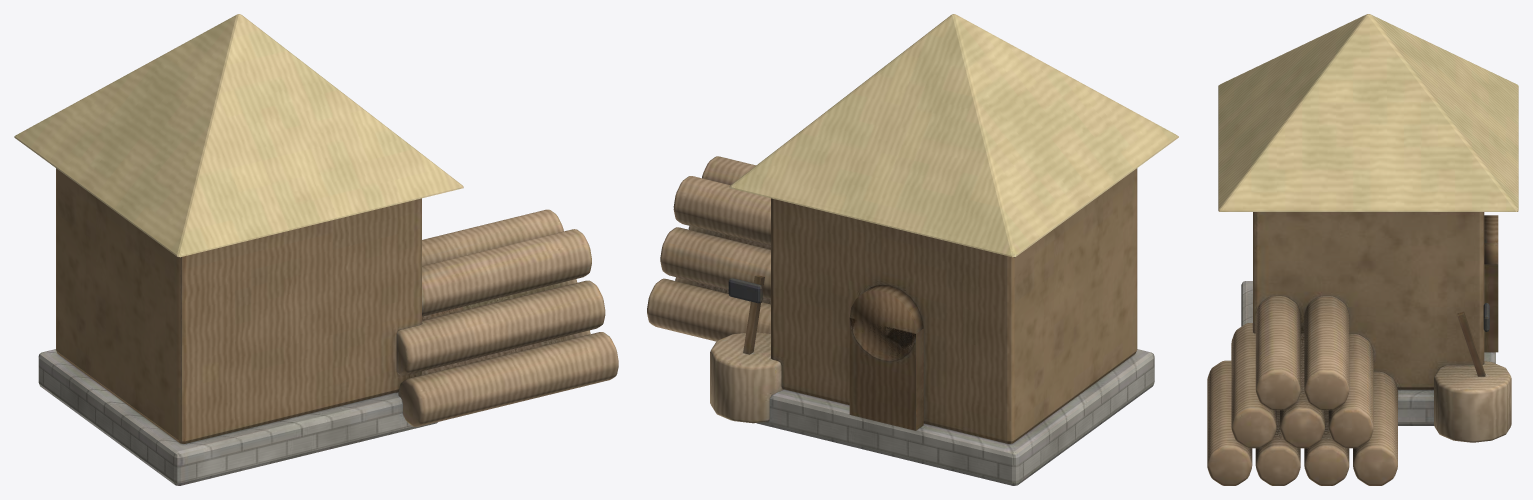
Rendered from woodcutter.glb.
3 views of the same model, side by side, from view 1: azimuth 30°, elevation 25°; view 2: azimuth 150°, elevation 25°; view 3: azimuth 270°, elevation 25° (orthographic). The views are drawn at different scales.
Visible parts, largest first — view 1: woodcutter; view 2: woodcutter; view 3: woodcutter.
Boxes of the visible parts, <box> form: woodcutter: <box>14,14,618,485</box>; woodcutter: <box>647,14,1178,485</box>; woodcutter: <box>1207,14,1518,485</box>.
Size of the model in its own units: 3.95 by 3.38 by 2.69.
1 material, 1 textured.
